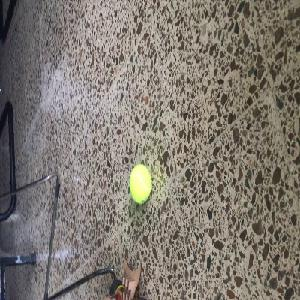Ball: (129, 165, 151, 204)
